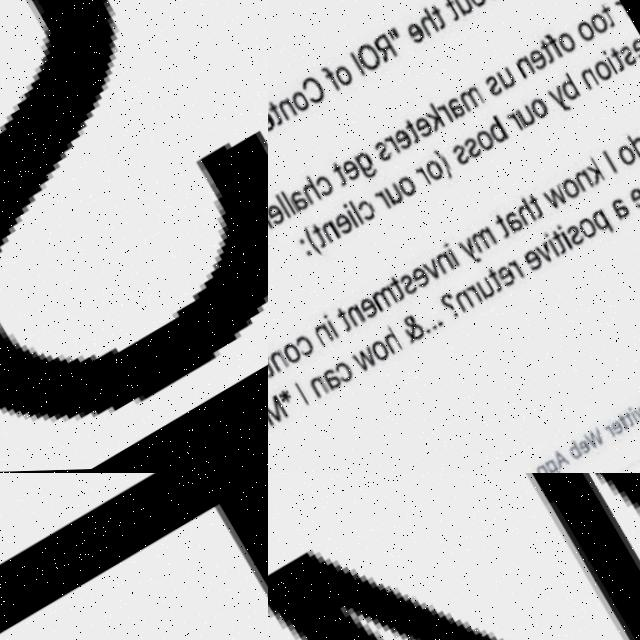A: (443, 96, 469, 125), (317, 366, 343, 395), (501, 211, 526, 239), (286, 188, 310, 217), (607, 198, 630, 225), (549, 449, 568, 472)
B: (481, 116, 509, 148), (555, 75, 582, 106), (563, 441, 581, 464)
C: (298, 74, 328, 108), (311, 174, 336, 201), (355, 199, 378, 225), (292, 334, 315, 360), (330, 360, 353, 386)
D: (625, 131, 640, 163)
E: (0, 473, 268, 640), (407, 265, 432, 293), (354, 295, 379, 323), (493, 265, 518, 292), (404, 21, 428, 49), (338, 156, 362, 184), (332, 211, 356, 239), (519, 249, 543, 276), (411, 117, 435, 142), (527, 50, 550, 75), (392, 129, 414, 154), (268, 203, 287, 228), (607, 419, 625, 441), (626, 187, 640, 212), (628, 39, 640, 65), (574, 441, 590, 459), (268, 107, 277, 135)
F: (319, 63, 343, 95)
G: (351, 150, 378, 181)
H: (294, 174, 322, 207), (510, 197, 537, 228), (377, 325, 403, 357), (414, 8, 440, 39)
I: (441, 242, 461, 272), (599, 50, 619, 80), (319, 312, 339, 341), (554, 225, 574, 254), (541, 233, 560, 261), (347, 51, 366, 78), (545, 35, 564, 62), (340, 203, 357, 231), (601, 151, 618, 177), (292, 382, 308, 408), (624, 408, 637, 429)
K: (420, 102, 446, 134), (580, 157, 606, 188)
L: (279, 191, 296, 217), (274, 193, 291, 219), (347, 200, 363, 226)
M: (268, 473, 640, 640), (368, 285, 397, 314), (468, 227, 496, 255), (458, 86, 485, 113), (268, 393, 287, 429)
N: (275, 97, 299, 124), (578, 68, 602, 95), (305, 374, 329, 400), (317, 219, 340, 246), (343, 304, 366, 330), (311, 323, 334, 349), (268, 348, 289, 375), (513, 58, 536, 82), (433, 252, 455, 277), (572, 172, 594, 196), (452, 290, 474, 314)
O: (354, 42, 383, 76), (572, 20, 599, 48), (287, 89, 312, 117), (587, 13, 612, 41), (421, 159, 446, 187), (555, 32, 580, 59), (278, 341, 303, 368), (331, 64, 355, 91), (473, 129, 497, 156), (394, 174, 418, 201), (367, 338, 391, 364), (575, 217, 598, 244), (558, 179, 582, 204), (528, 97, 551, 123), (614, 146, 637, 172), (590, 61, 612, 86), (465, 0, 490, 12)
P: (589, 210, 614, 241), (541, 459, 558, 473), (533, 467, 549, 473)
R: (371, 33, 399, 66), (505, 113, 525, 138), (413, 167, 431, 191), (435, 104, 454, 126), (505, 261, 523, 284), (373, 191, 390, 213), (383, 135, 400, 156), (464, 286, 481, 307), (613, 0, 628, 22), (601, 426, 614, 442)
S: (0, 0, 268, 473), (395, 272, 420, 301), (448, 142, 473, 169), (460, 137, 484, 164), (561, 225, 585, 251), (617, 45, 640, 71), (371, 141, 394, 166), (481, 75, 504, 99)
T: (598, 5, 619, 32), (607, 49, 628, 76), (309, 223, 329, 250), (429, 5, 448, 32), (330, 161, 349, 188), (526, 195, 545, 221), (388, 277, 407, 303), (549, 232, 568, 258), (485, 269, 504, 295), (333, 308, 351, 334), (539, 41, 556, 67), (442, 0, 461, 23), (268, 100, 284, 127), (403, 120, 420, 145), (493, 215, 510, 240), (620, 412, 635, 432), (615, 415, 629, 435), (268, 352, 275, 378)
U: (381, 182, 405, 210), (473, 277, 496, 302), (514, 107, 537, 131), (495, 69, 517, 94), (452, 0, 476, 20)
V: (420, 258, 445, 285), (532, 242, 555, 268)
W: (348, 346, 377, 375), (542, 185, 570, 214), (580, 428, 606, 456), (630, 406, 640, 426)
Y: (455, 238, 482, 270), (546, 88, 572, 120)
